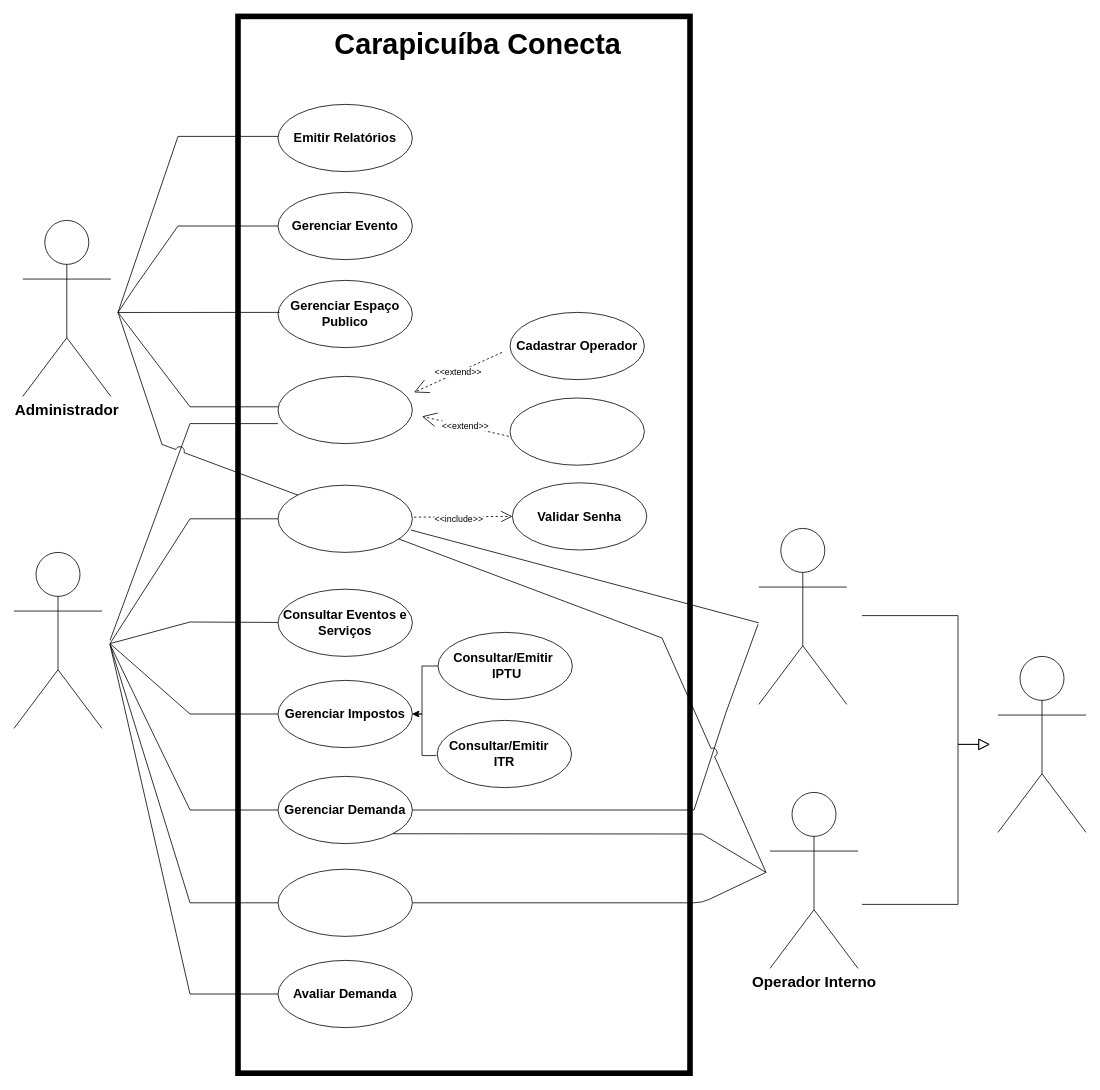
Image size: 1100x1090. Some labels were removed from this diagram. The shapes that lost their labels are listed below. From the top down, each one's centre as x and y in pixels, then its label:
At point (344, 410): "Cadastrar Usuário".
At point (576, 431): "Cadastrar Cidadão".
At point (344, 518): "Fazer Login".
At point (802, 616): "Operador Externo".
At point (57, 640): "Cidadão".
At point (1041, 744): "Operador".
At point (344, 902): "Registar Demanda".
